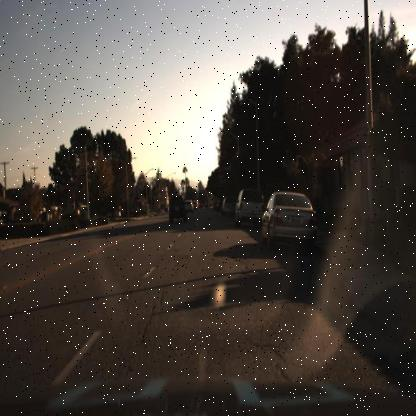car: (258, 189, 318, 243), (233, 186, 266, 226), (166, 191, 186, 224), (222, 194, 235, 219)
